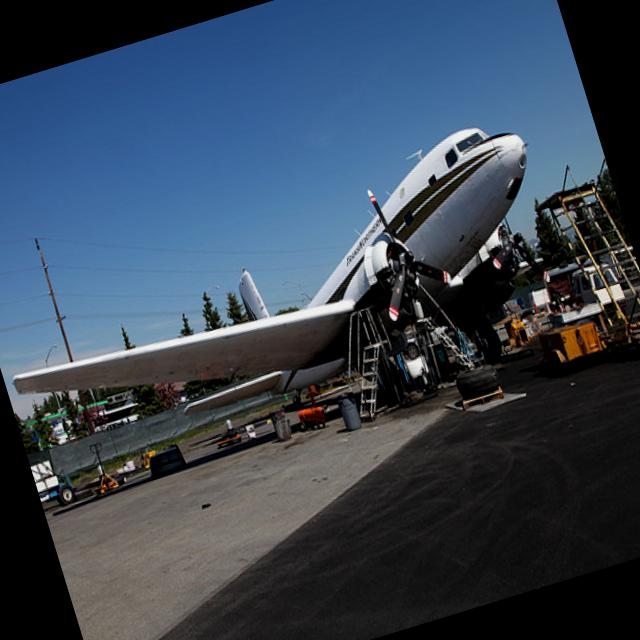Vehicle: (537, 258, 627, 327), (540, 315, 606, 373), (398, 320, 428, 360)
